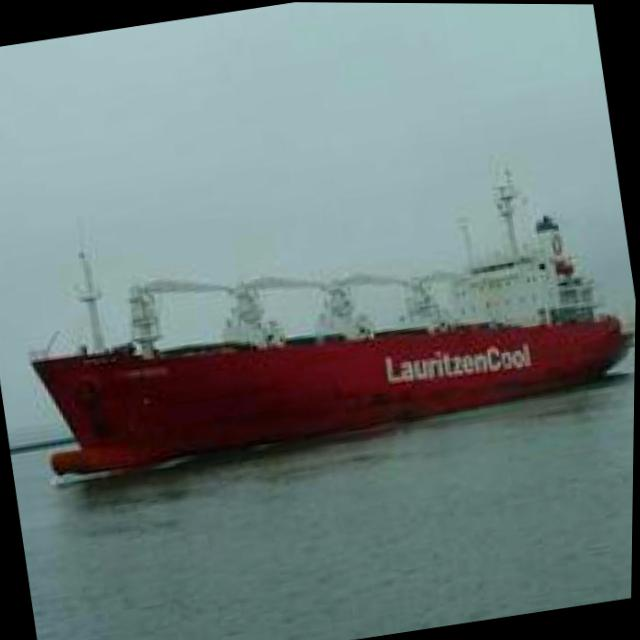ship2: (31, 152, 636, 484)
